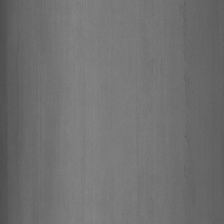silk_spot: (178, 0, 194, 145)
